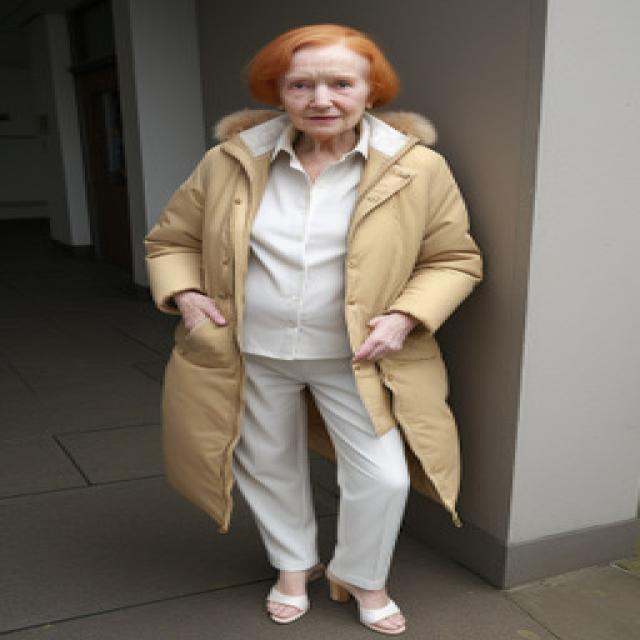Ai human 2: (135, 11, 505, 637)
